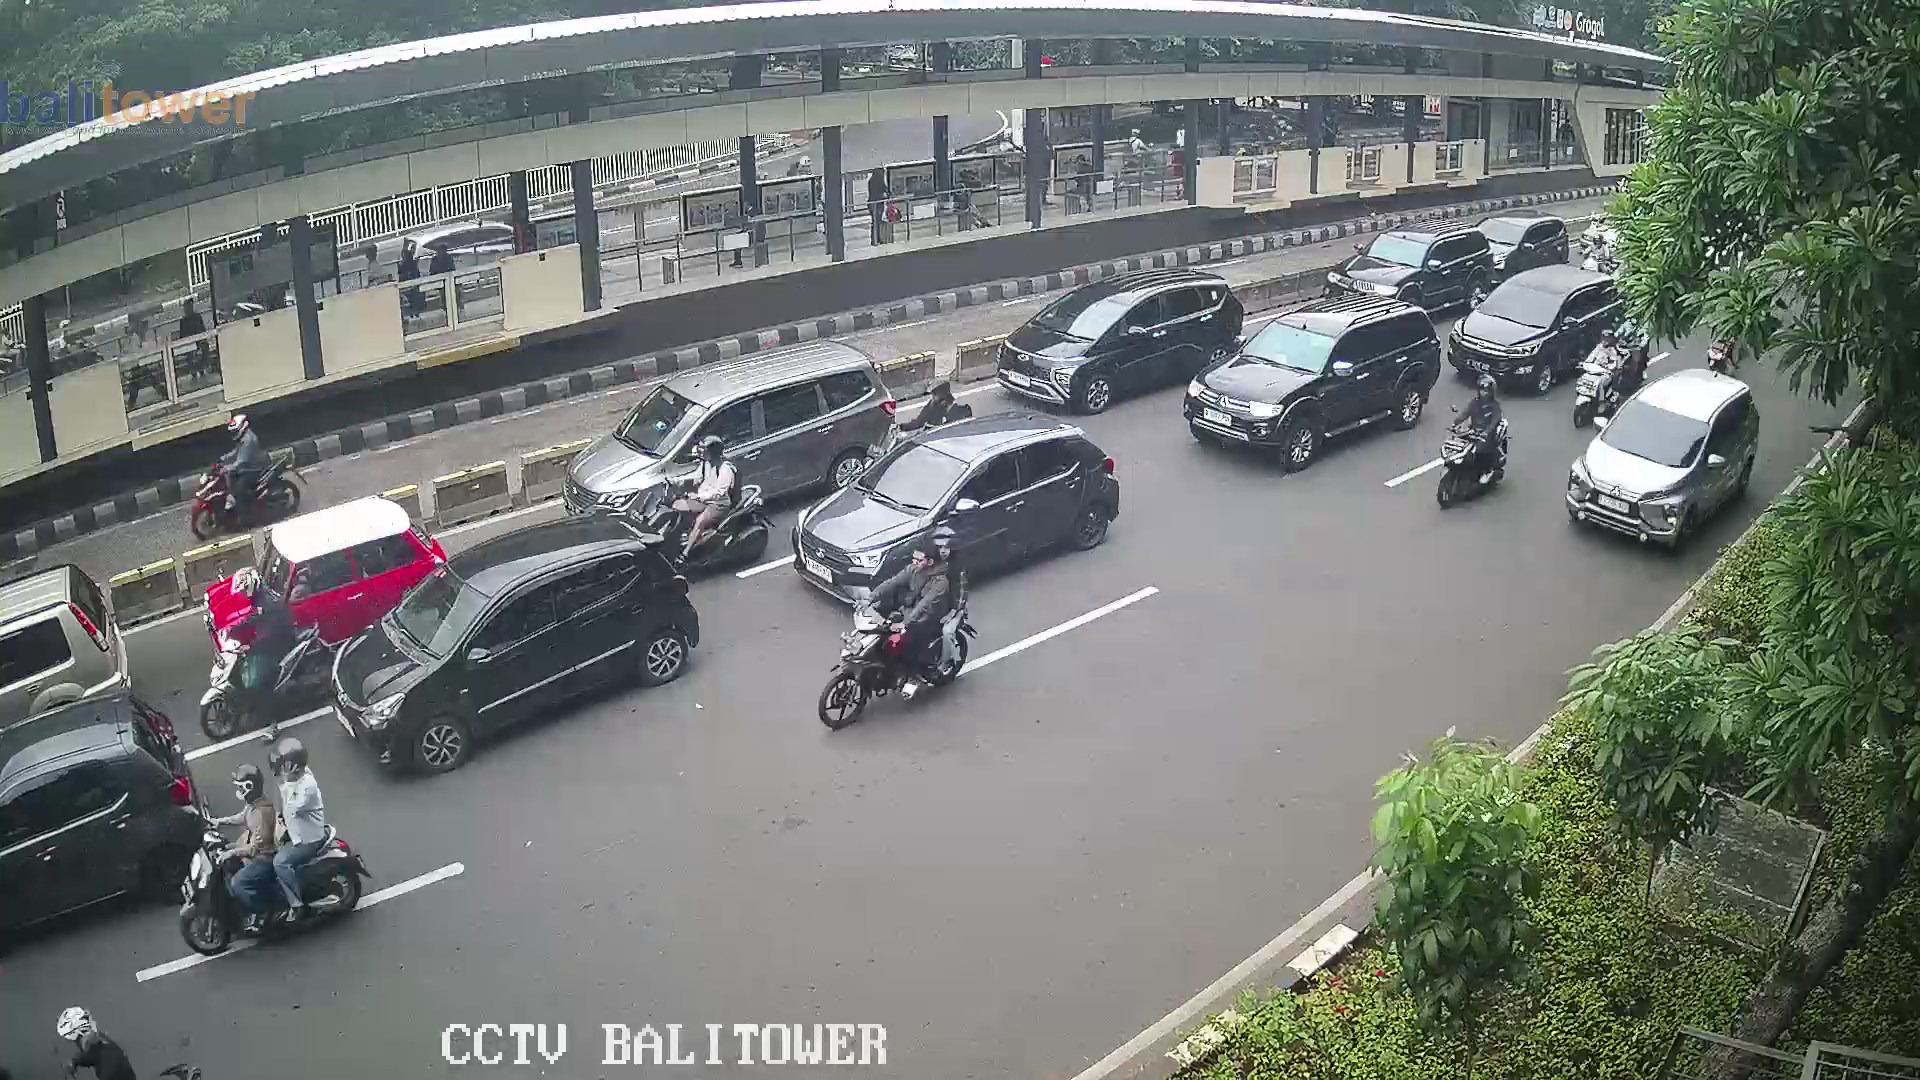full-face helmet: (221, 761, 266, 822), (219, 408, 257, 445)
half-face helmet: (49, 1000, 98, 1051), (272, 731, 317, 782), (931, 524, 972, 571), (231, 565, 268, 602), (690, 439, 731, 469), (1476, 369, 1508, 404), (923, 376, 957, 404)
no helmet: (904, 539, 933, 578)
